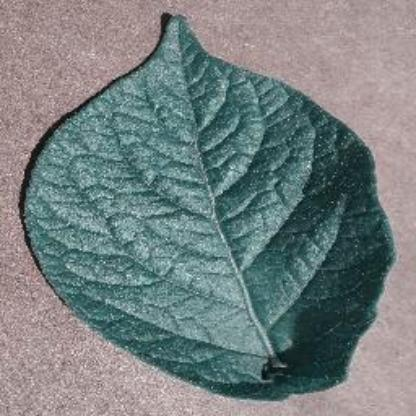Healthy-plant: (14, 8, 404, 402)
